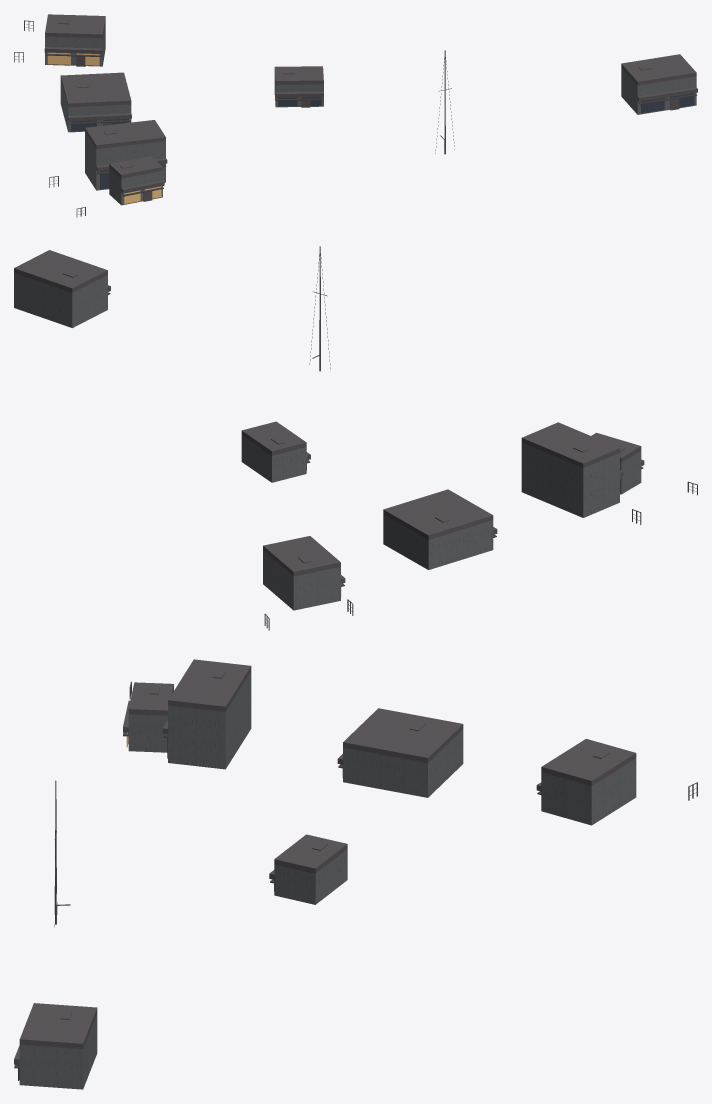
Rendered from SM_City_AlHilal_3.fbx.
3 renders of one model, top to bottom at view 1: azimuth 30°, elevation 25°; view 2: azimuth 150°, elevation 25°; view 3: azimuth 270°, elevation 25°, orthographic. The views are drawn at different scales.
Parts seen in each view (by area): view 1: SM_City_AlHilal_3; view 2: SM_City_AlHilal_3; view 3: SM_City_AlHilal_3.
Part boxes in pixels (x1,y1,x2,y2): SM_City_AlHilal_3: [14, 14, 697, 217]; SM_City_AlHilal_3: [14, 246, 697, 630]; SM_City_AlHilal_3: [14, 659, 697, 1089].
Size of the model in its own units: 8136 by 1374 by 5939.
Materials: 5 (5 with a texture image).
